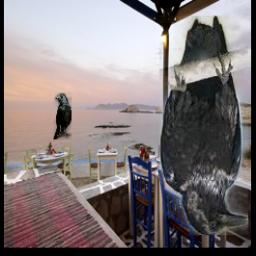Crow: (159, 17, 248, 236), (54, 94, 72, 140)
